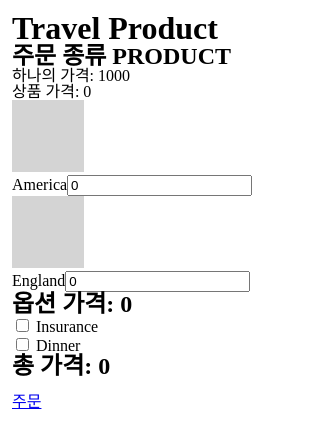
Test: total price of goods and options › updating total price when removing option and product
The image size is (332, 426).
Clear the checkbox labelled "Insurance" at (22,326), box [16,319,29,332]
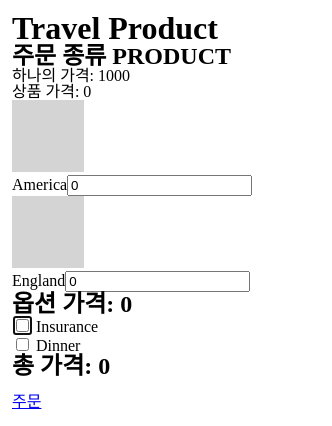
Click the checkbox labelled "Insurance".
click(22, 326)  # box [16,319,29,332]
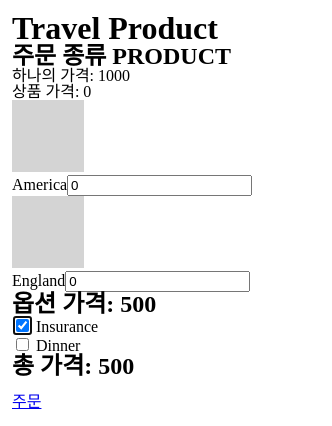
Replace the text in the number field labelled "America" with "3" at (160,186), box [67,175,252,196]
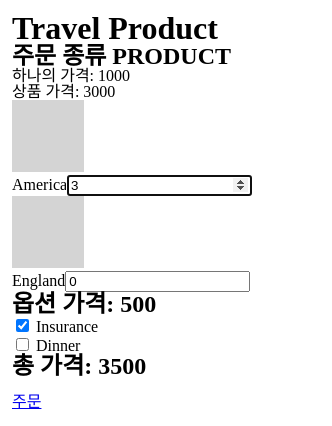
Replace the text in the number field labelled "America" with "1" at (160,186), box [67,175,252,196]
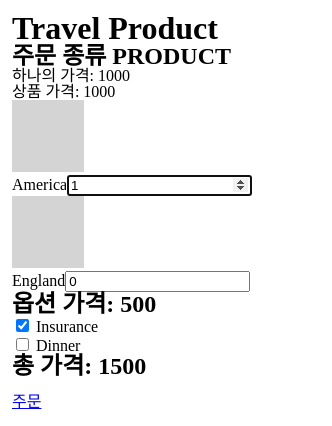
expect the heading "총 가격: 1500" is shown: met, box [12,353,146,379]
